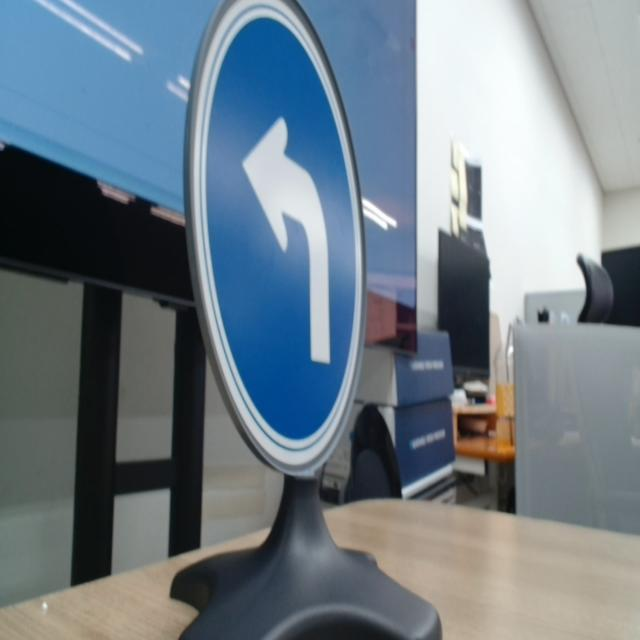left_direction: (180, 0, 369, 479)
